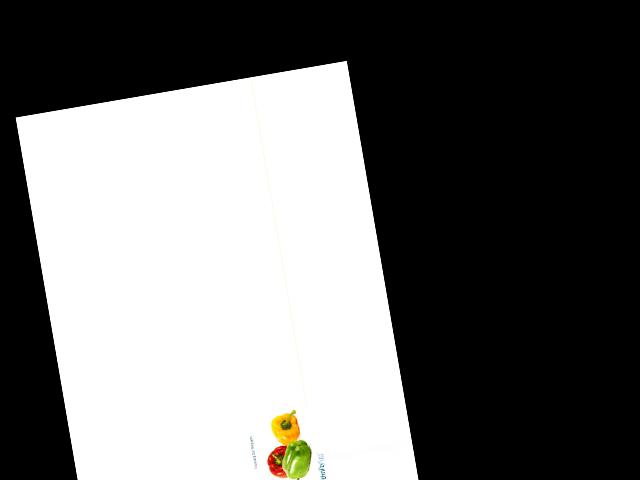bell_pepper: (278, 434, 318, 480)
